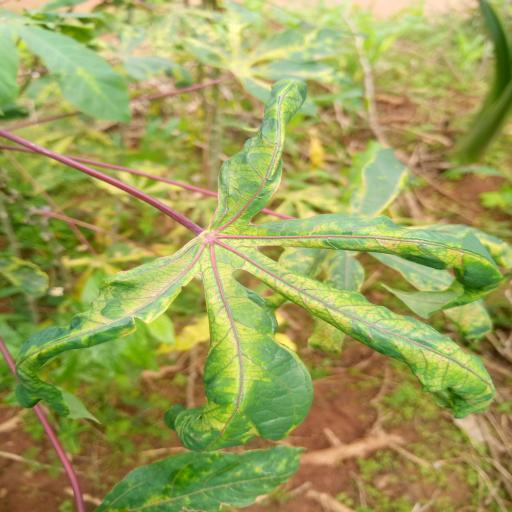Cassava_Mosaic: (5, 77, 512, 459)
